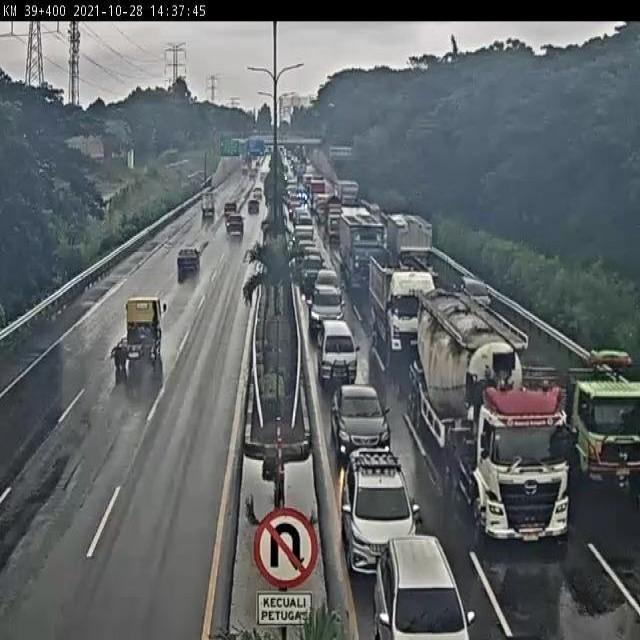big truck: (411, 284, 566, 573), (537, 338, 640, 493), (366, 257, 439, 356), (335, 213, 399, 291), (387, 203, 438, 277)
car: (334, 445, 425, 583), (378, 522, 480, 640), (326, 383, 401, 472), (310, 322, 366, 394), (305, 288, 350, 337), (456, 271, 497, 313), (169, 240, 204, 283), (299, 256, 330, 288), (242, 193, 266, 220), (224, 213, 245, 236)
small truck: (103, 292, 173, 376), (197, 190, 219, 222)
